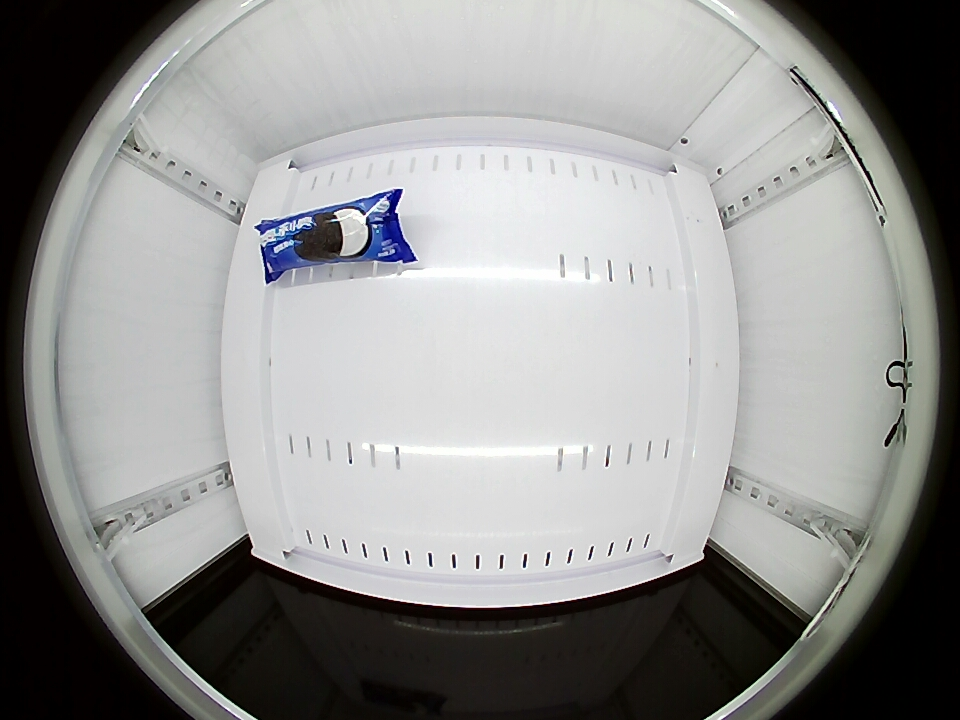aoliao: (260, 196, 404, 271)
